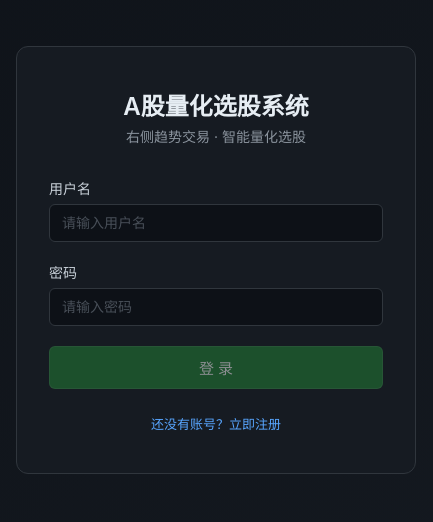
Scenario: LoginView › 登录失败时显示错误提示信息
The width and height of the screenshot is (433, 522).
Type "baduser" into the field with id "username" at [216, 223], box [49,204,383,242]
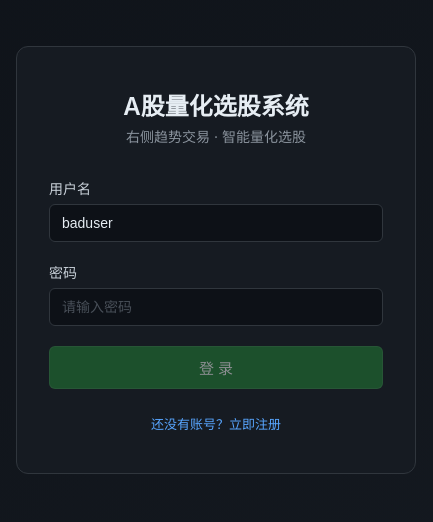
Type "WrongPass1" into the password field labelled "密码" at [216, 307], box [49,288,383,326]
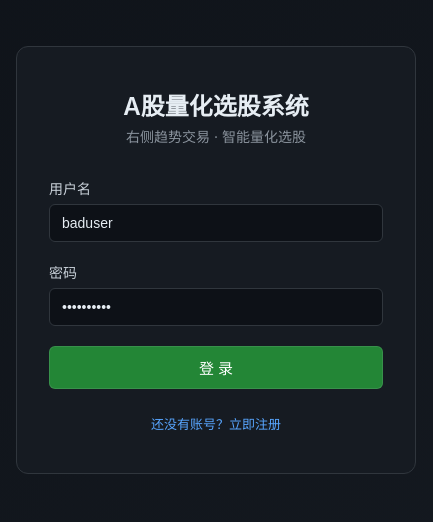
Submit the form, box [49,178,383,389]
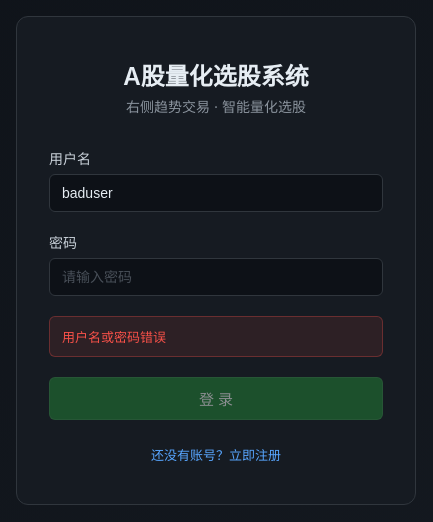
Now the message "用户名或密码错误" is shown, box [49,316,383,356]
Now the message with class "error-message" reads "用户名或密码错误", box [62,328,166,344]
